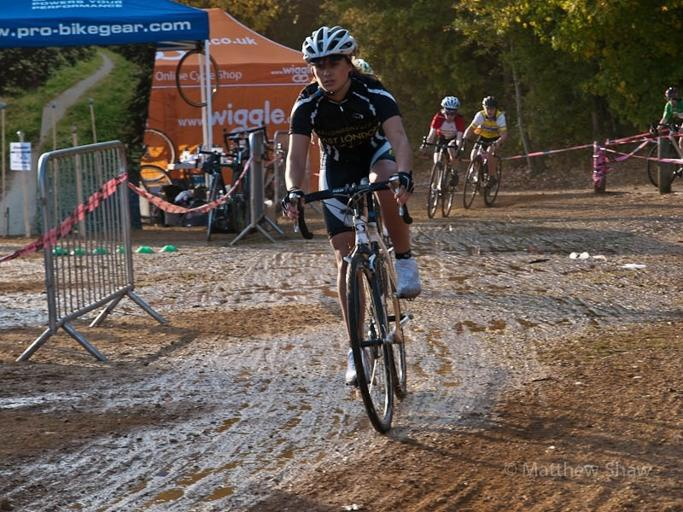non-vehicle: (283, 172, 415, 436), (195, 125, 250, 241), (420, 134, 464, 218), (460, 136, 502, 210), (645, 119, 682, 189)
